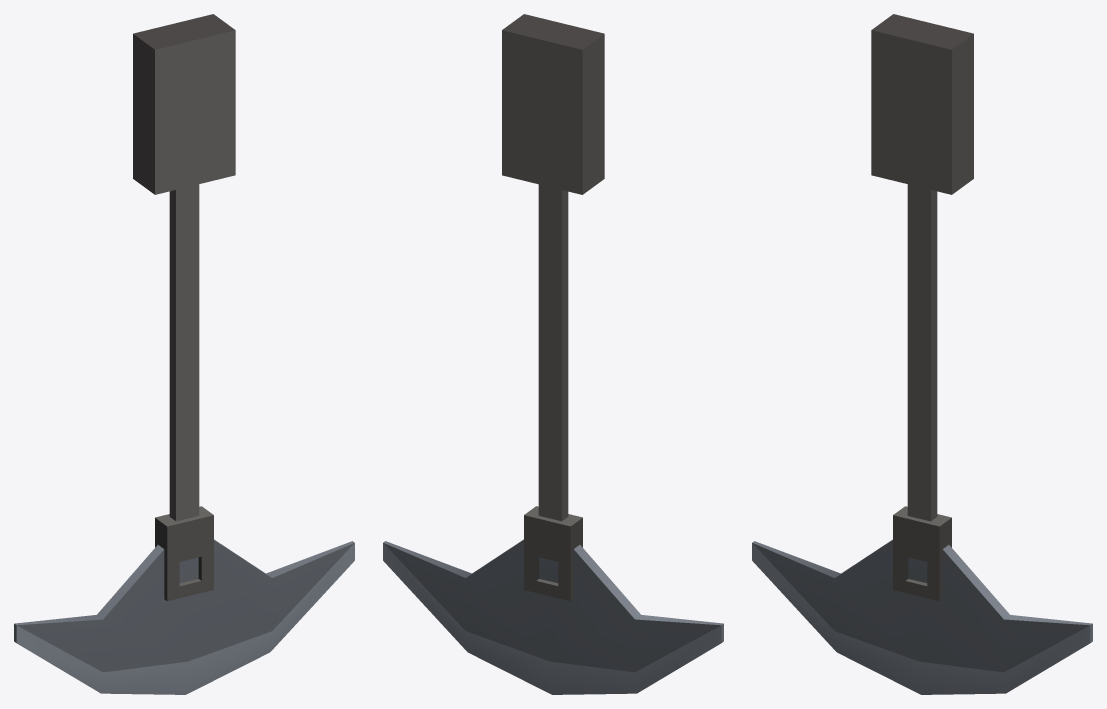
Rendered from SD_Trap_SwingingAxe_01.fbx.
The picture shows the model from 3 angles, left to right: view 1: azimuth 30°, elevation 25°; view 2: azimuth 150°, elevation 25°; view 3: azimuth 330°, elevation 25°; orthographic projection.
Parts seen in each view (by area): view 1: SwingingAxe, SD_Trap_SwingingAxe_01; view 2: SwingingAxe, SD_Trap_SwingingAxe_01; view 3: SwingingAxe, SD_Trap_SwingingAxe_01.
Boxes of the visible parts, x1,y1,x2,y2 form: SwingingAxe: [14, 184, 354, 694]; SD_Trap_SwingingAxe_01: [133, 14, 235, 194]; SwingingAxe: [383, 184, 723, 694]; SD_Trap_SwingingAxe_01: [502, 14, 604, 194]; SwingingAxe: [752, 184, 1092, 694]; SD_Trap_SwingingAxe_01: [871, 14, 973, 194].
Bounding box in the file's own units: 4.69 × 8.78 × 0.5325.
